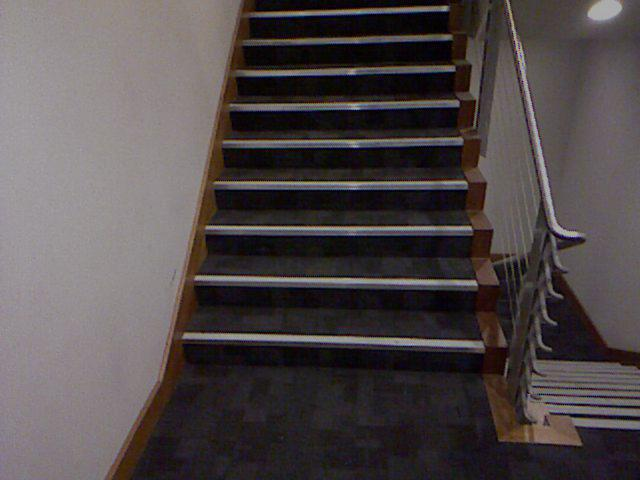Escaleras: (176, 0, 518, 363), (500, 329, 639, 441)
